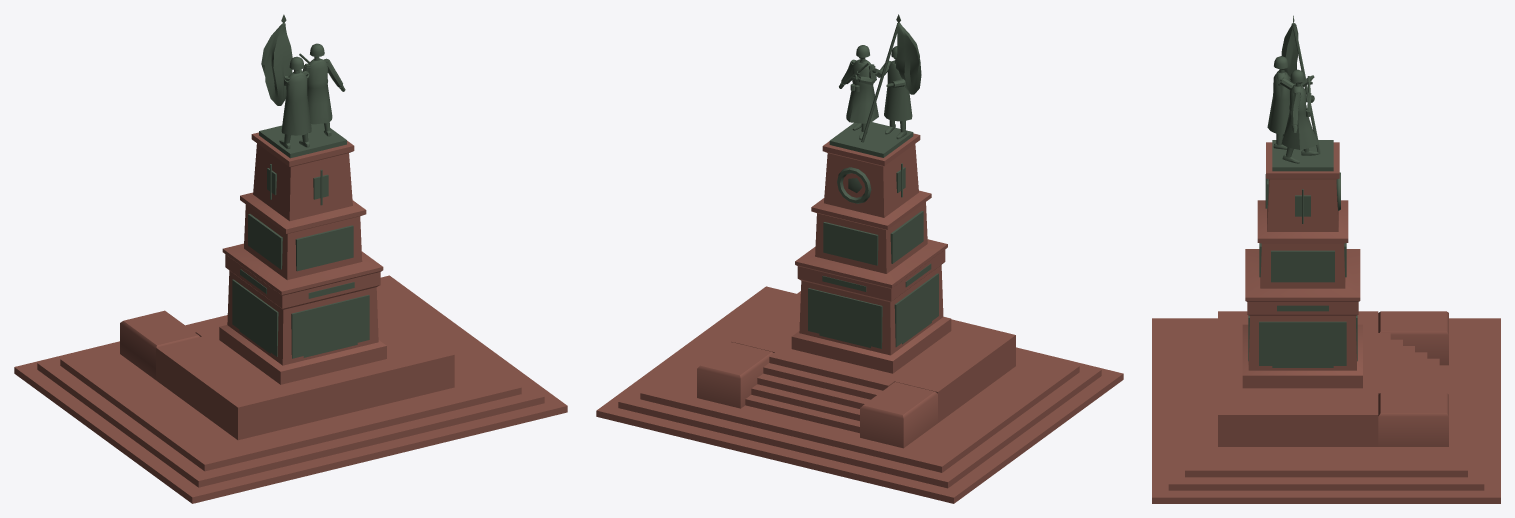
Rendered from mon_sowjetisches_ehrenmal.glb.
The picture shows the model from 3 angles, left to right: view 1: azimuth 30°, elevation 25°; view 2: azimuth 150°, elevation 25°; view 3: azimuth 270°, elevation 25°; orthographic projection. The views are drawn at different scales.
Visible parts, largest first — view 1: mon_sowjetisches_ehrenmal; view 2: mon_sowjetisches_ehrenmal; view 3: mon_sowjetisches_ehrenmal.
Boxes of the visible parts, box(x1,y1,x2,y2) form: mon_sowjetisches_ehrenmal: box(14, 14, 567, 503); mon_sowjetisches_ehrenmal: box(596, 14, 1123, 503); mon_sowjetisches_ehrenmal: box(1152, 15, 1500, 503).
Size of the model in its own units: 9 by 9.1 by 7.4.
